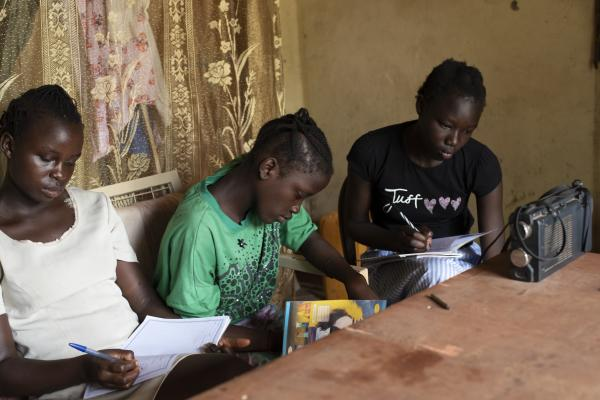Person: (4, 80, 252, 400), (163, 91, 392, 351), (346, 51, 541, 312)
